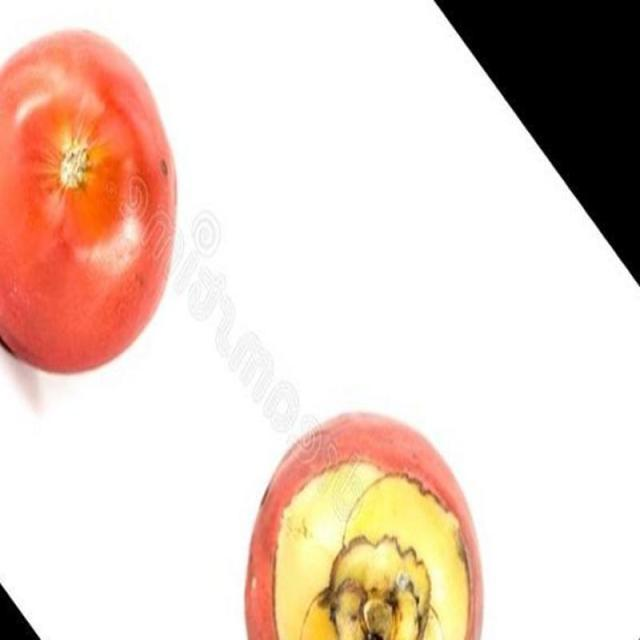good: (0, 29, 177, 377), (243, 414, 484, 639)
